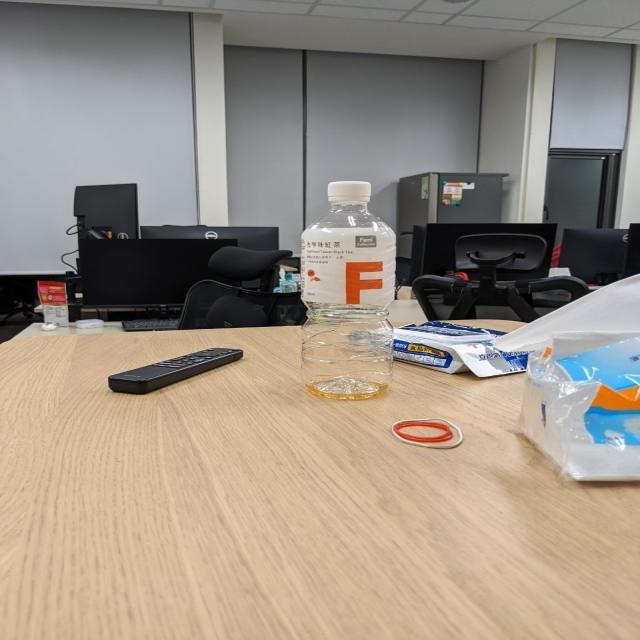good: (295, 165, 401, 405)
